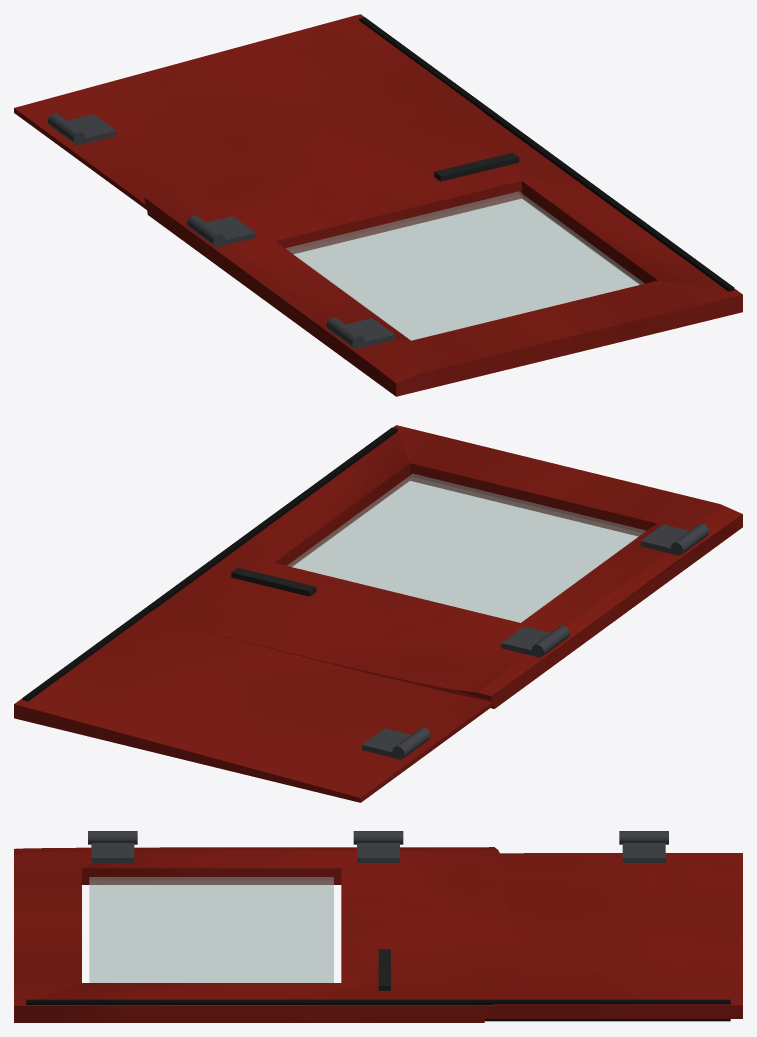
File: porta_traseira_d_van.glb
3 views of the same model, one above another, from view 1: azimuth 30°, elevation 25°; view 2: azimuth 150°, elevation 25°; view 3: azimuth 270°, elevation 25° (orthographic). The views are drawn at different scales.
Parts seen in each view (by area): view 1: porta_traseira_d_van_pintura, porta_traseira_d_van_vidro, porta_traseira_d_van_aco_escuro, porta_traseira_d_van_borracha, porta_traseira_d_van_plastico_preto; view 2: porta_traseira_d_van_pintura, porta_traseira_d_van_vidro, porta_traseira_d_van_aco_escuro, porta_traseira_d_van_borracha, porta_traseira_d_van_plastico_preto; view 3: porta_traseira_d_van_pintura, porta_traseira_d_van_vidro, porta_traseira_d_van_borracha, porta_traseira_d_van_aco_escuro, porta_traseira_d_van_plastico_preto.
Boxes of the visible parts, box(x1,y1,x2,y2) form: porta_traseira_d_van_pintura: box(14, 14, 742, 396); porta_traseira_d_van_vidro: box(286, 191, 644, 340); porta_traseira_d_van_aco_escuro: box(48, 113, 394, 349); porta_traseira_d_van_borracha: box(359, 17, 734, 291); porta_traseira_d_van_plastico_preto: box(434, 152, 519, 181); porta_traseira_d_van_pintura: box(14, 425, 742, 802); porta_traseira_d_van_vidro: box(287, 473, 645, 622); porta_traseira_d_van_aco_escuro: box(362, 523, 708, 759); porta_traseira_d_van_borracha: box(22, 427, 397, 701); porta_traseira_d_van_plastico_preto: box(231, 567, 316, 596); porta_traseira_d_van_pintura: box(14, 847, 742, 1022); porta_traseira_d_van_vidro: box(89, 877, 333, 982); porta_traseira_d_van_borracha: box(26, 999, 730, 1021); porta_traseira_d_van_aco_escuro: box(88, 831, 668, 862); porta_traseira_d_van_plastico_preto: box(378, 949, 390, 990).
Bounding box in the file's own units: 0.627 × 0.063 × 1.18.
Materials: 6 (1 with a texture image).
